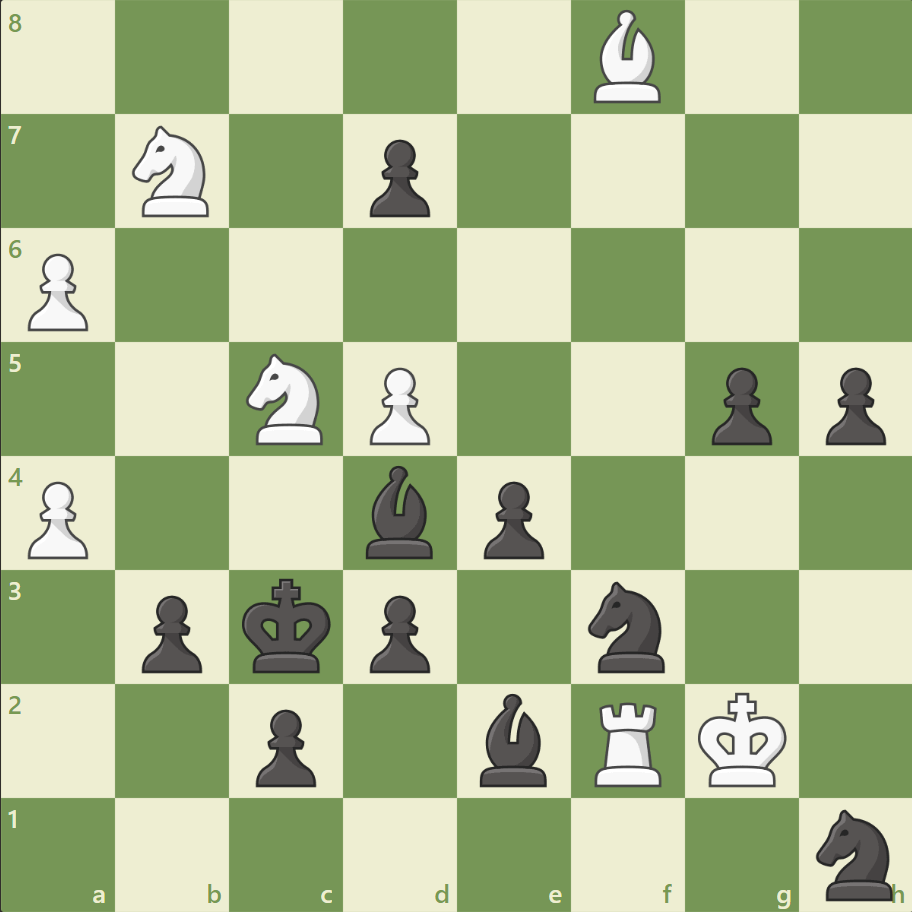B: (585, 6, 669, 109)
K: (692, 685, 792, 793)
N: (124, 121, 222, 223), (238, 348, 335, 450)
P: (20, 246, 95, 337), (20, 473, 95, 564), (361, 359, 435, 450)
R: (587, 693, 670, 790)
b: (358, 460, 442, 563), (471, 687, 555, 790)
k: (238, 571, 338, 679)
n: (579, 575, 676, 677), (806, 802, 903, 904)
p: (701, 359, 776, 450), (474, 473, 549, 564), (133, 586, 208, 677), (247, 700, 322, 791), (361, 132, 435, 223), (815, 359, 889, 450), (361, 586, 435, 677)
